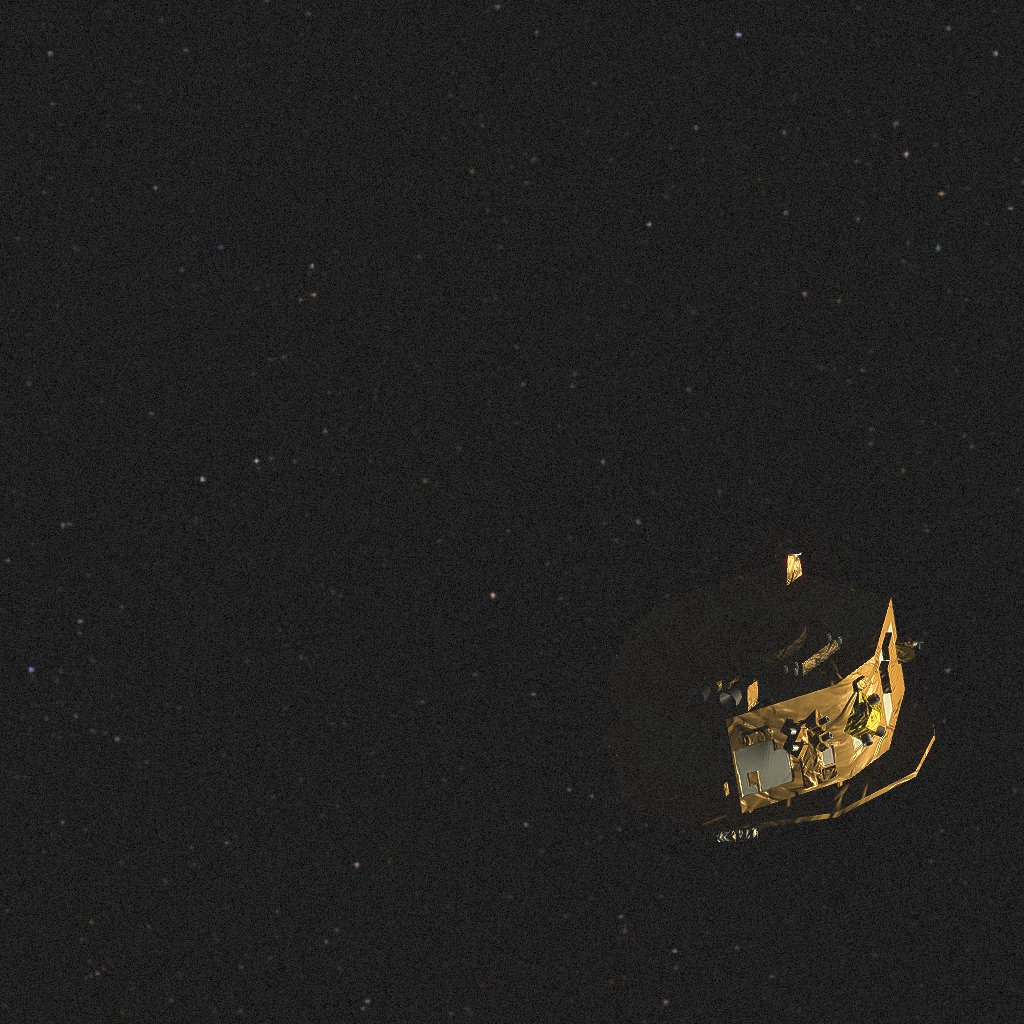lisa_pathfinder: (600, 548, 935, 844)
